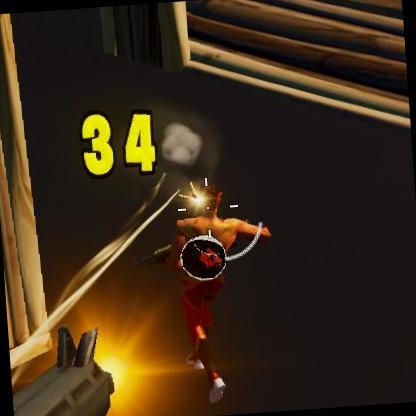person: (166, 204, 284, 402)
